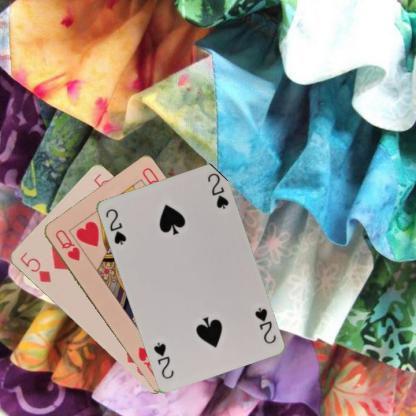2s: (251, 304, 277, 345), (103, 206, 127, 246)
5d: (17, 250, 52, 284)
Qh: (52, 226, 81, 262)
